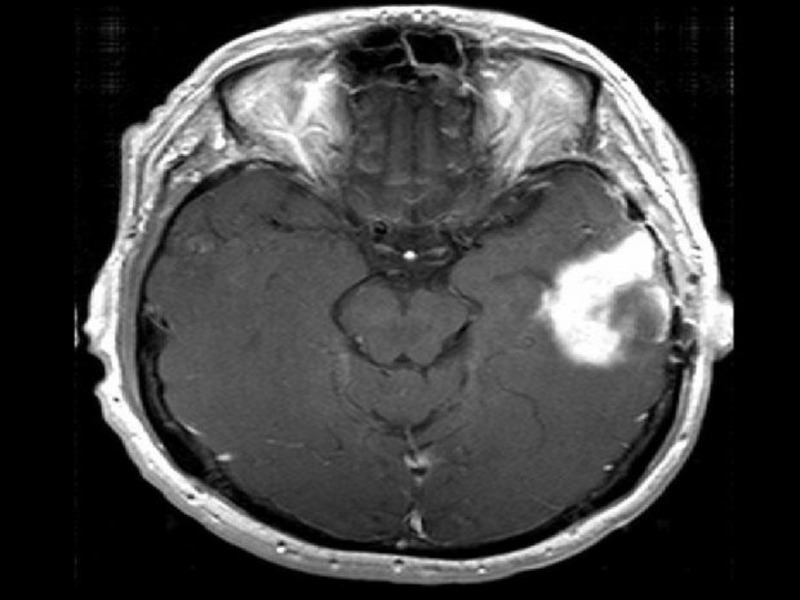tumor: (530, 223, 680, 379)
